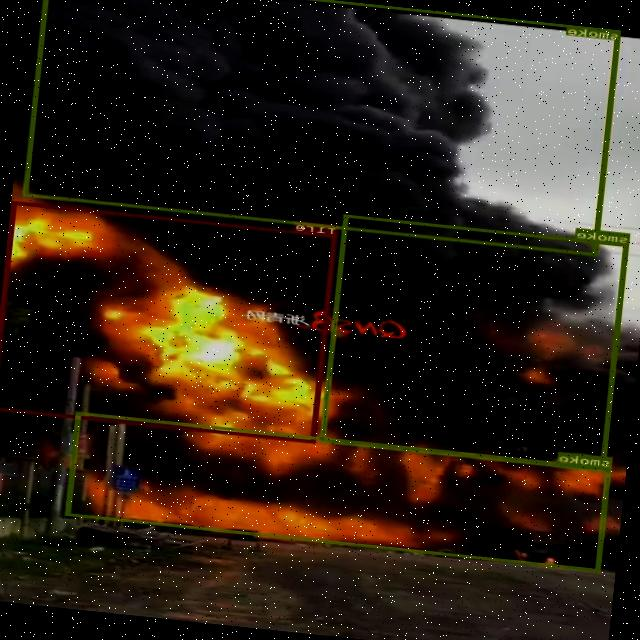fire: (0, 200, 337, 442)
smoke: (24, 0, 621, 254), (66, 410, 612, 572), (321, 214, 629, 472)
